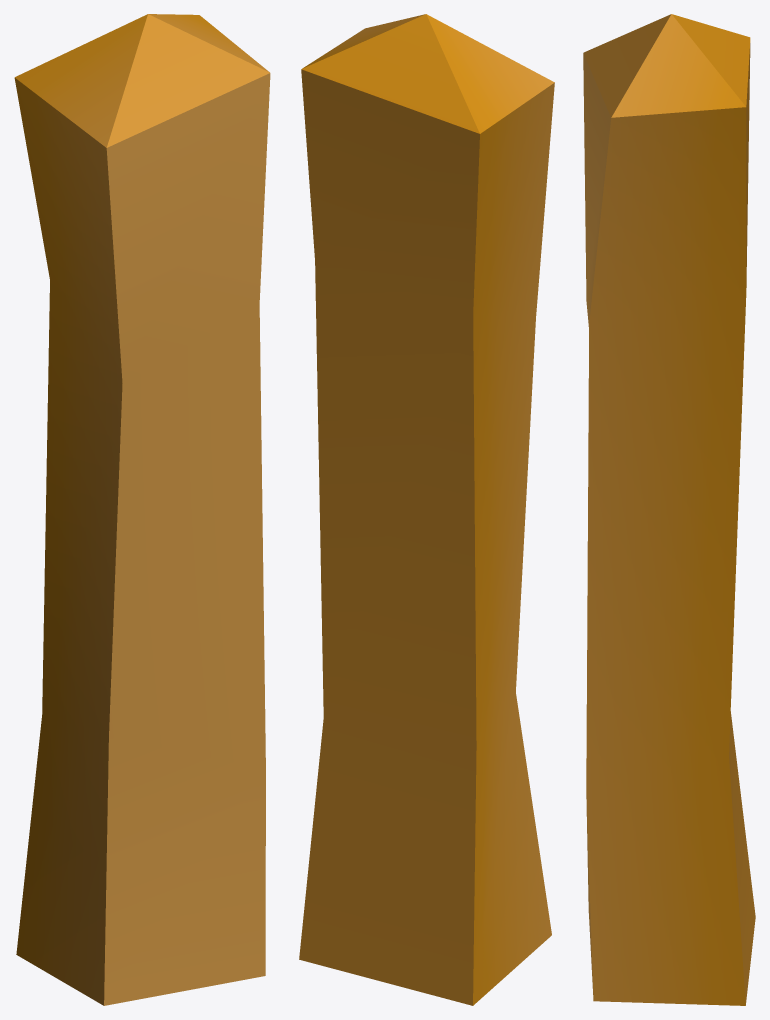
Rendered from TiangKayu V2.fbx.
The picture shows the model from 3 angles, left to right: view 1: azimuth 30°, elevation 25°; view 2: azimuth 150°, elevation 25°; view 3: azimuth 270°, elevation 25°; orthographic projection.
Visible parts, largest first — view 1: Wood_large_2; view 2: Wood_large_2; view 3: Wood_large_2.
Boxes of the visible parts, x1,y1,x2,y2 form: Wood_large_2: (14,14,270,1005); Wood_large_2: (299,14,554,1005); Wood_large_2: (583,14,755,1005).
Size of the model in its own units: 19.11 by 93.41 by 15.38.
